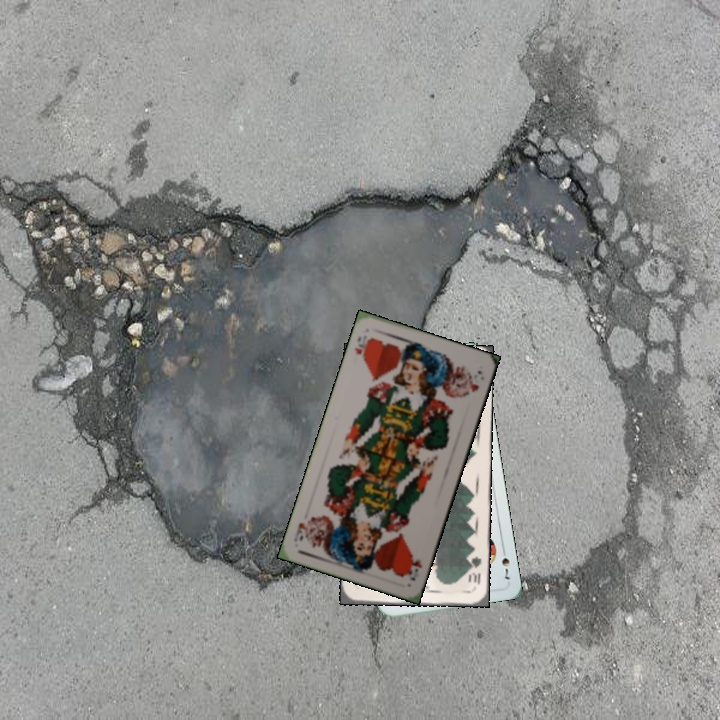G10: (465, 549, 484, 587)
HO: (350, 331, 374, 363), (402, 551, 425, 583)
S7: (497, 543, 513, 582)
